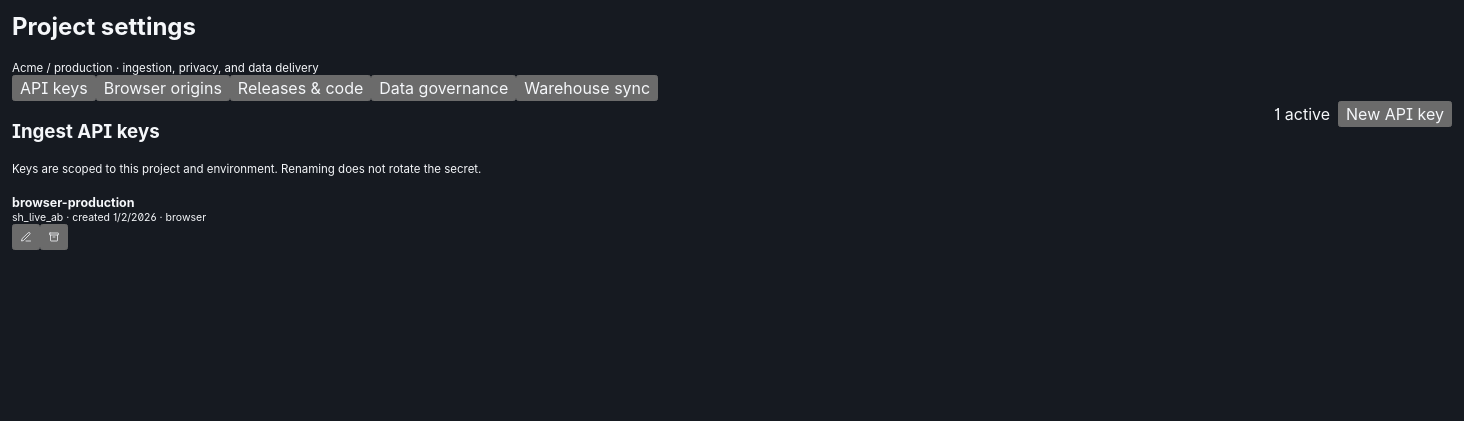
ProjectSettingsSection › resets API key creation fields when cancelled and reopened
Click the button "New API key": click(1395, 114) 1338,101 -> 1452,127
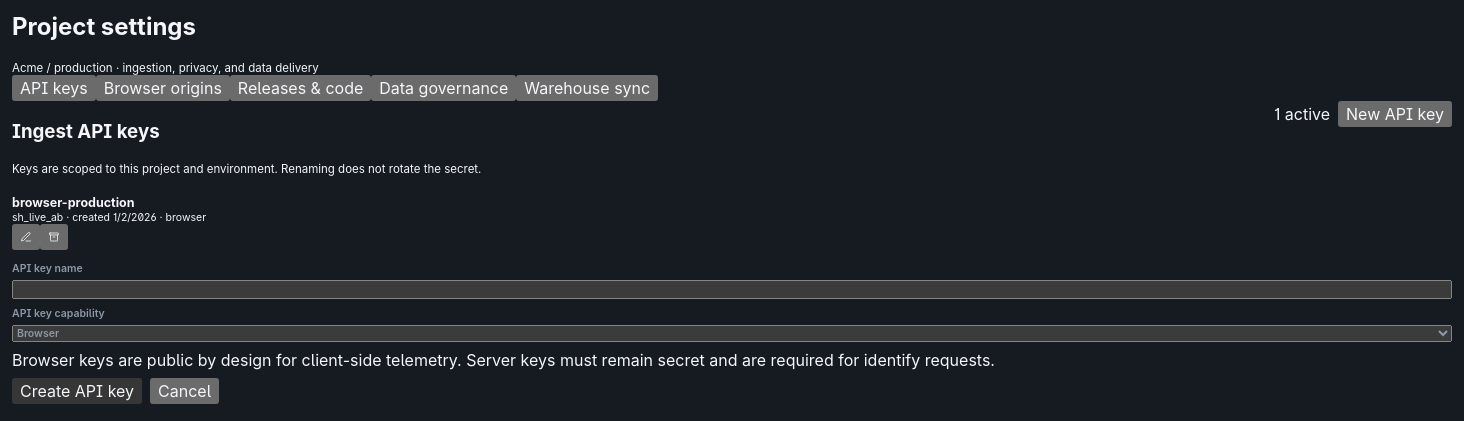
In the field labelled "API key name": (732, 289) 12,280 -> 1452,299, type "backend-identify"
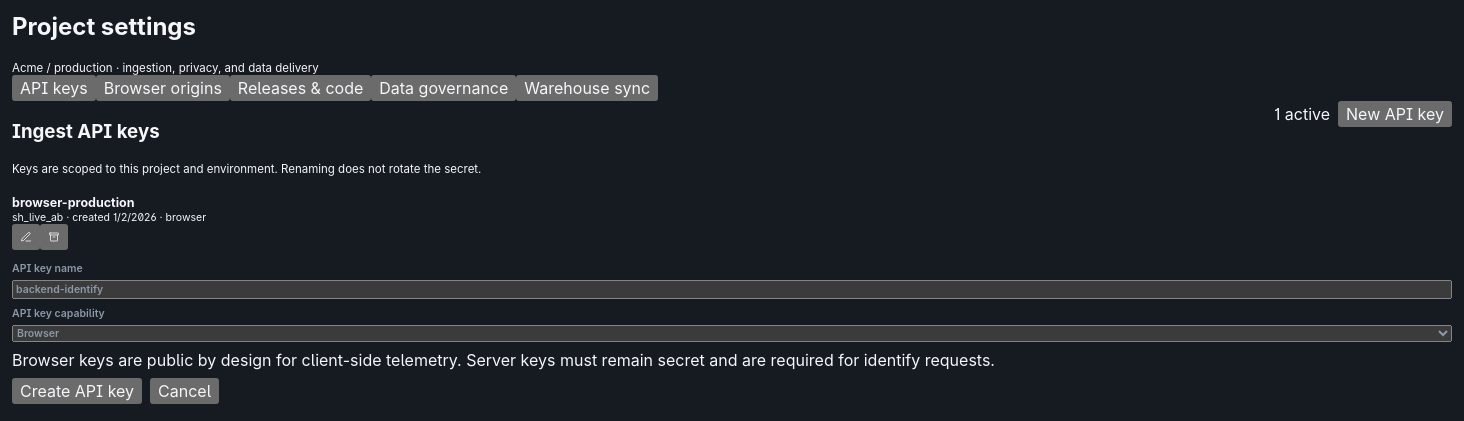
Select "Server" in the dropdown labelled "API key capability": (732, 333) 12,325 -> 1452,342
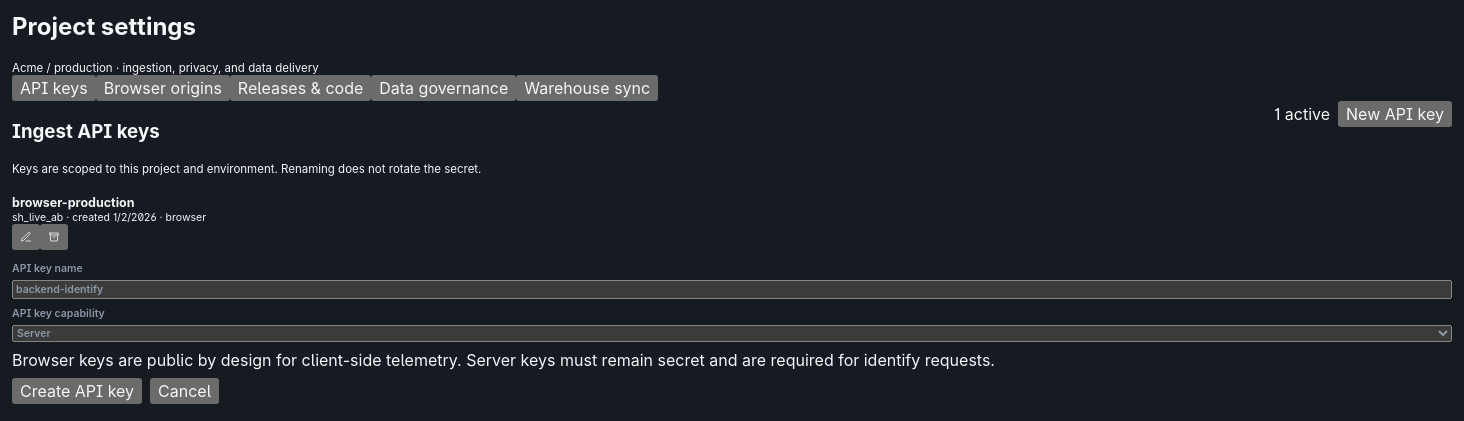
Click the button "Cancel": click(185, 391) 150,378 -> 219,404
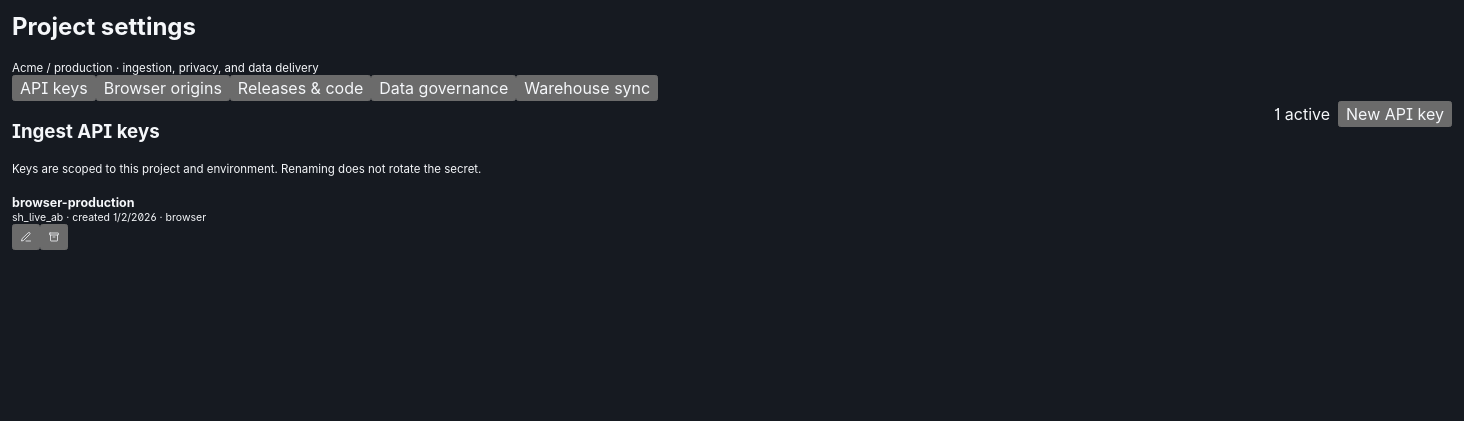
Click the button "New API key": click(1395, 114) 1338,101 -> 1452,127
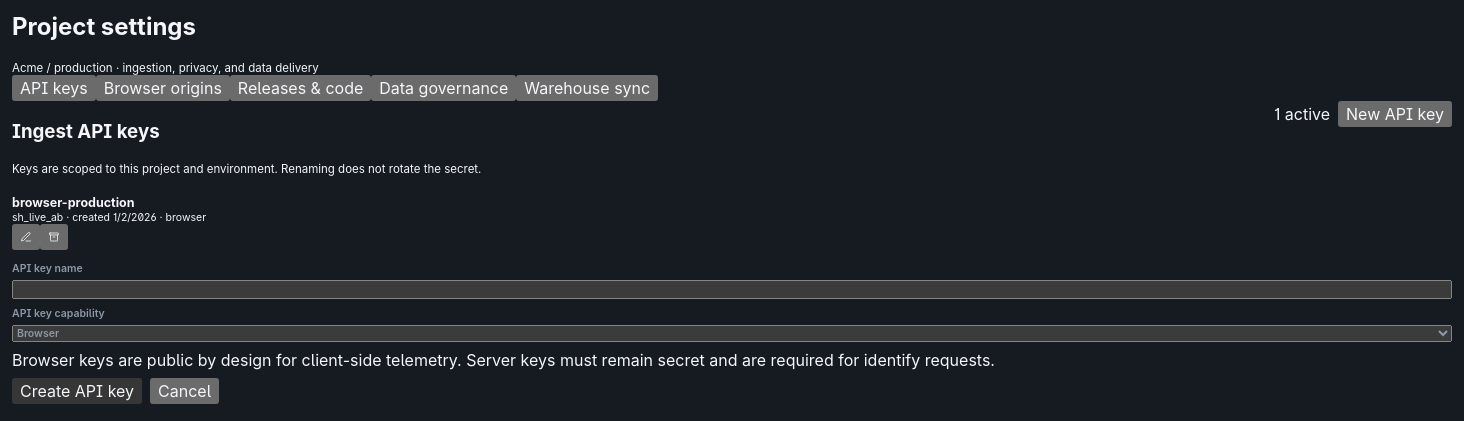
Now the field labelled "API key name" is empty, box 12,280 -> 1452,299
Now the dropdown labelled "API key capability" shows "Browser", box 12,325 -> 1452,342
